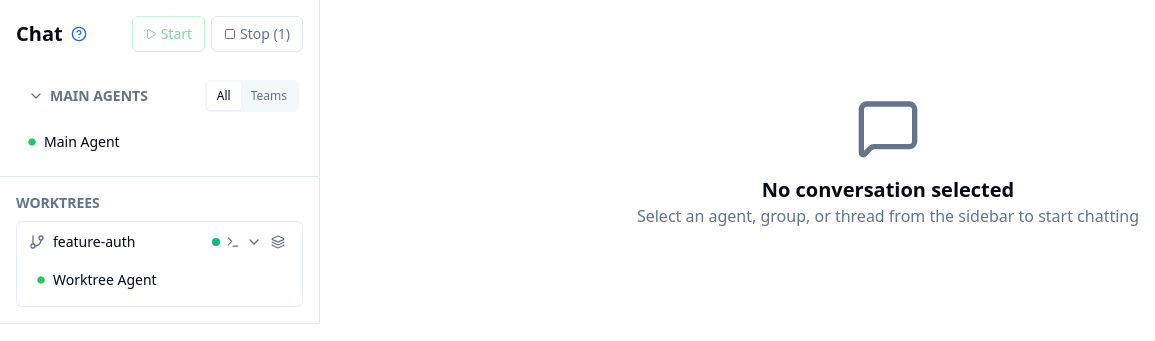
Test: ChatPage worktree provider config context menu › shows Provider Config submenu in worktree agent context menu
Right-click the list item with aria-label "Open terminal for Worktree Agent in feature-auth (online)" at (160, 280), box [25,262,294,298]
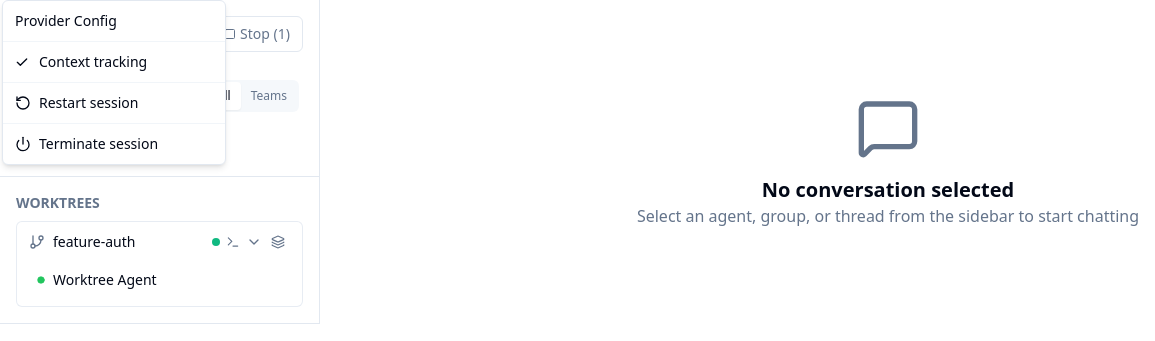
Now the menu item "Provider Config" is shown, box [15,11,117,30]
